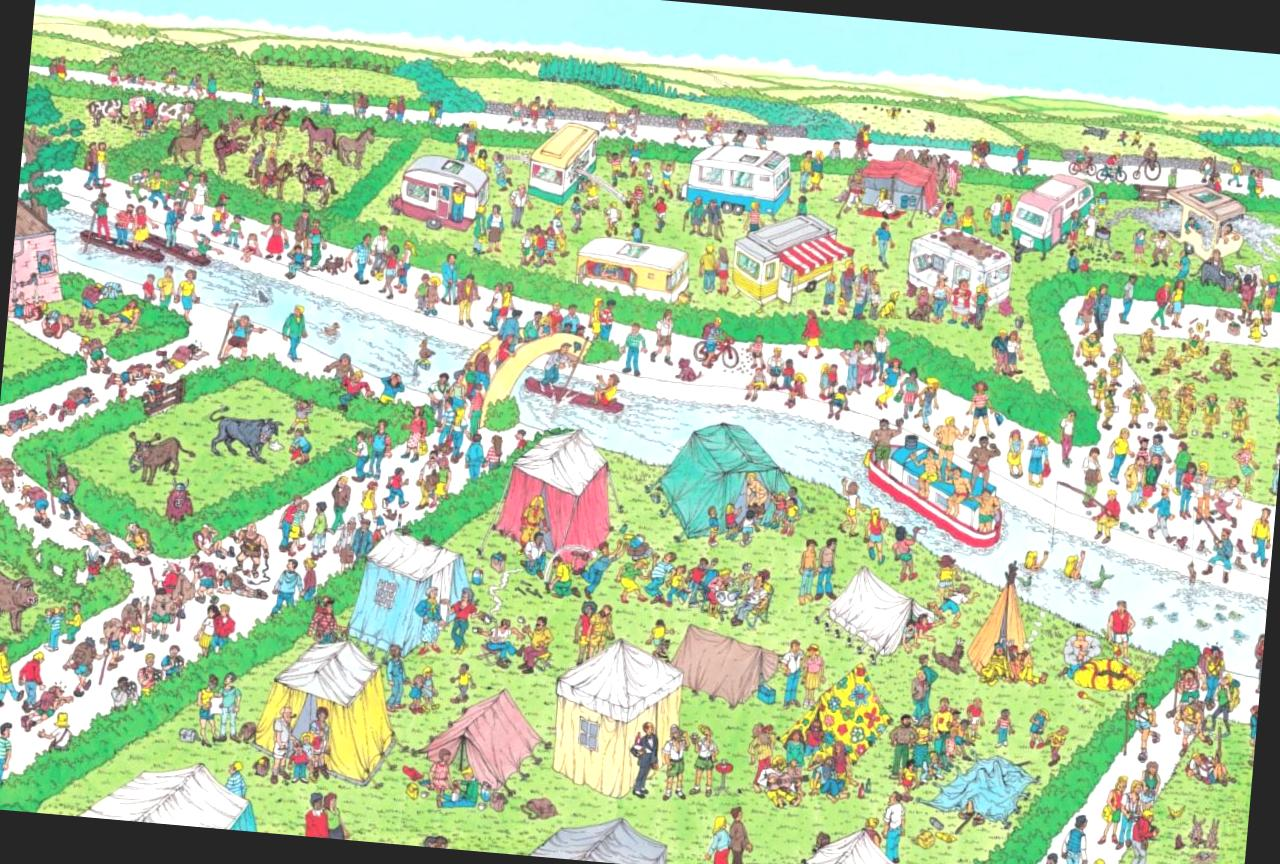waldo: (321, 596, 335, 614)
